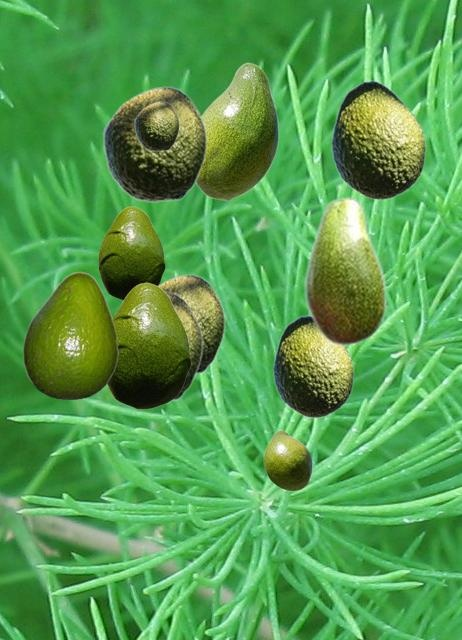avocado: (304, 195, 386, 346), (22, 271, 117, 398), (102, 86, 206, 201), (196, 62, 278, 200), (330, 80, 425, 199), (107, 282, 190, 408), (272, 315, 353, 417), (158, 274, 224, 374), (98, 206, 164, 300), (166, 291, 202, 401), (263, 430, 311, 490), (134, 101, 178, 150)
